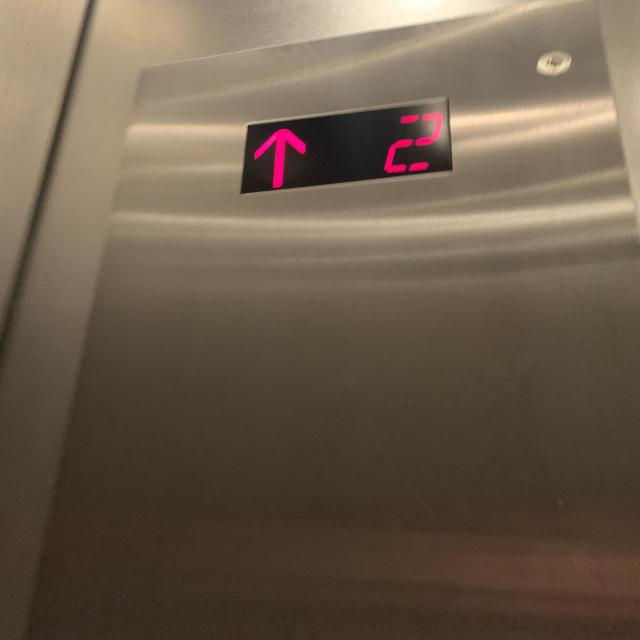box: (225, 103, 490, 208)
